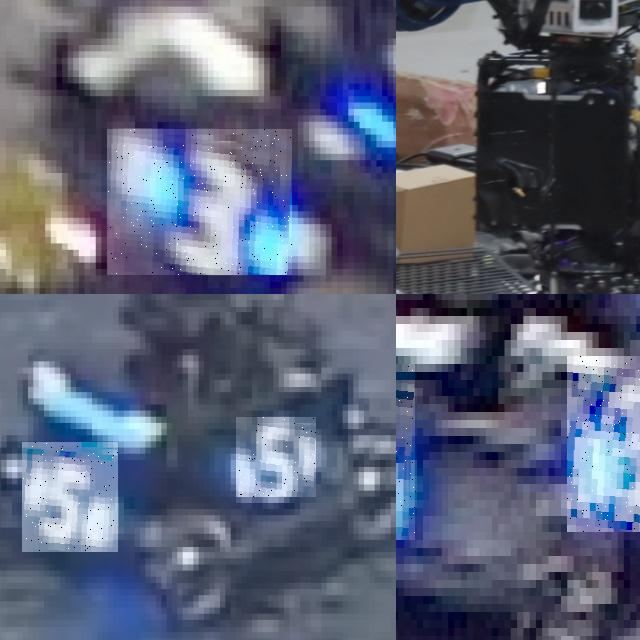B3: (107, 129, 292, 275), (567, 356, 640, 532)
B5: (22, 442, 118, 552), (236, 417, 316, 497)
